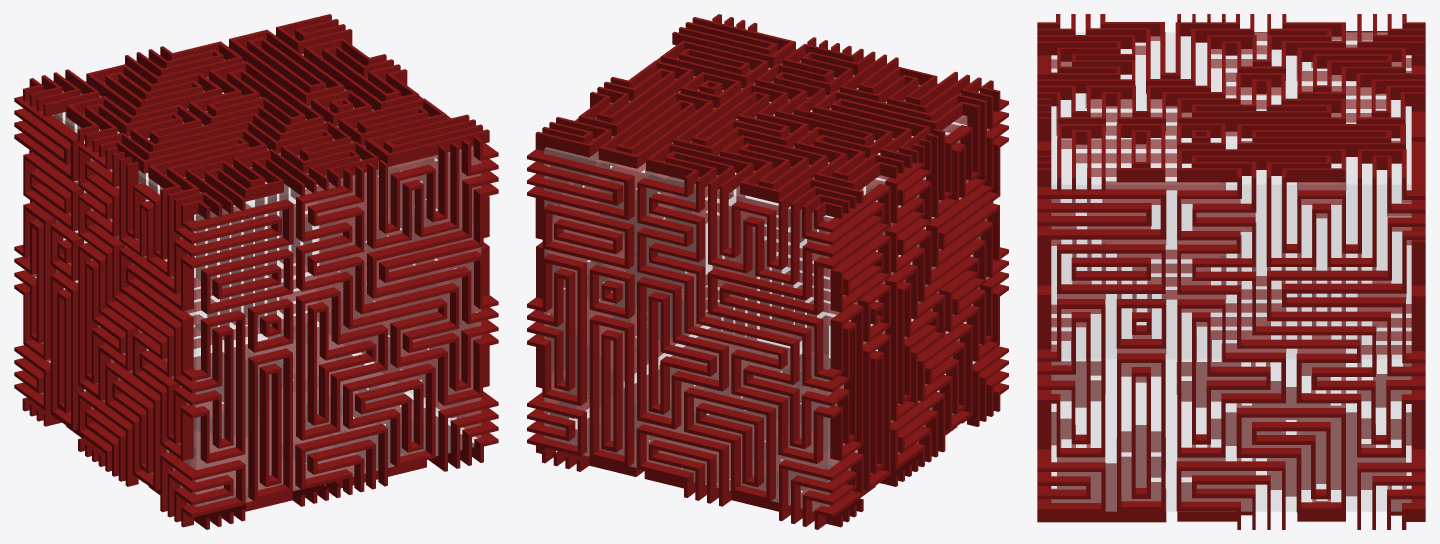
File: Maze.fbx
The picture shows the model from 3 angles, left to right: view 1: azimuth 30°, elevation 25°; view 2: azimuth 150°, elevation 25°; view 3: azimuth 270°, elevation 25°; orthographic projection. The views are drawn at different scales.
Visible parts, largest first — view 1: Maze, Maze.001; view 2: Maze, Maze.001; view 3: Maze, Maze.001.
Part boxes in pixels (x1,y1,x2,y2): Maze: (14, 14, 498, 529); Maze.001: (32, 36, 480, 506); Maze: (527, 14, 1008, 529); Maze.001: (544, 58, 989, 511); Maze: (1037, 14, 1425, 529); Maze.001: (1051, 32, 1411, 511).
Size of the model in its own units: 14 by 14 by 14.
